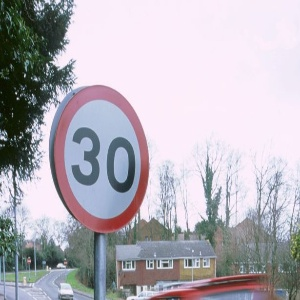30 speed: (54, 85, 150, 233)
